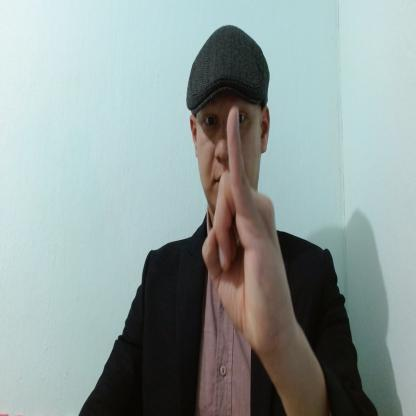I: (202, 106, 291, 352)
